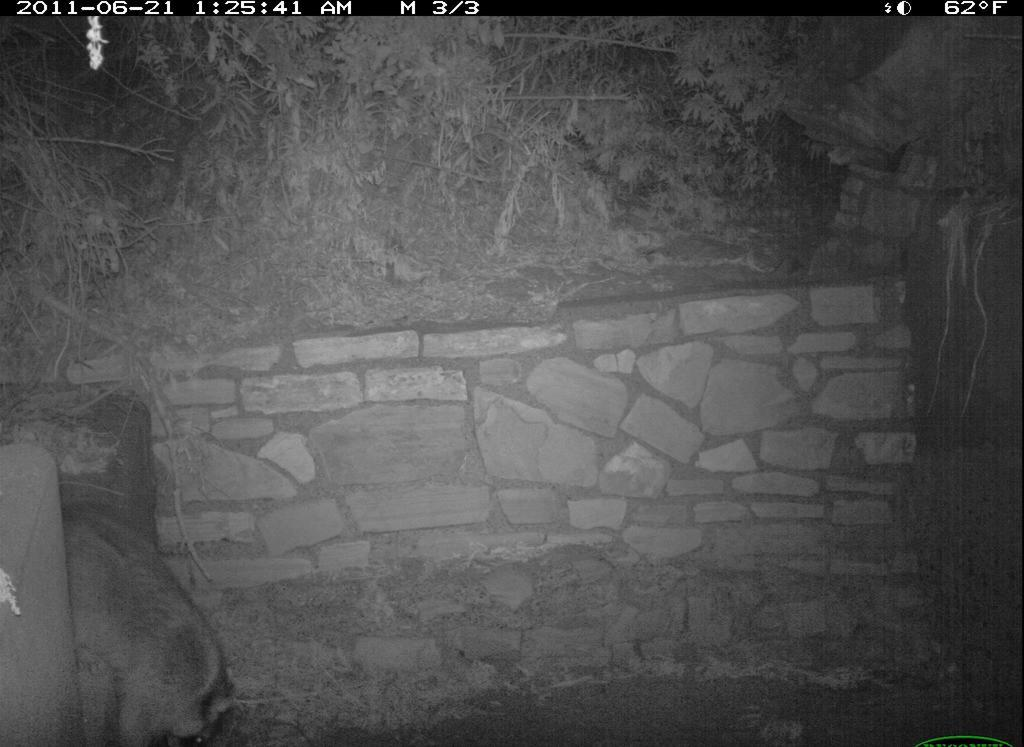raccoon: (34, 481, 265, 731)
